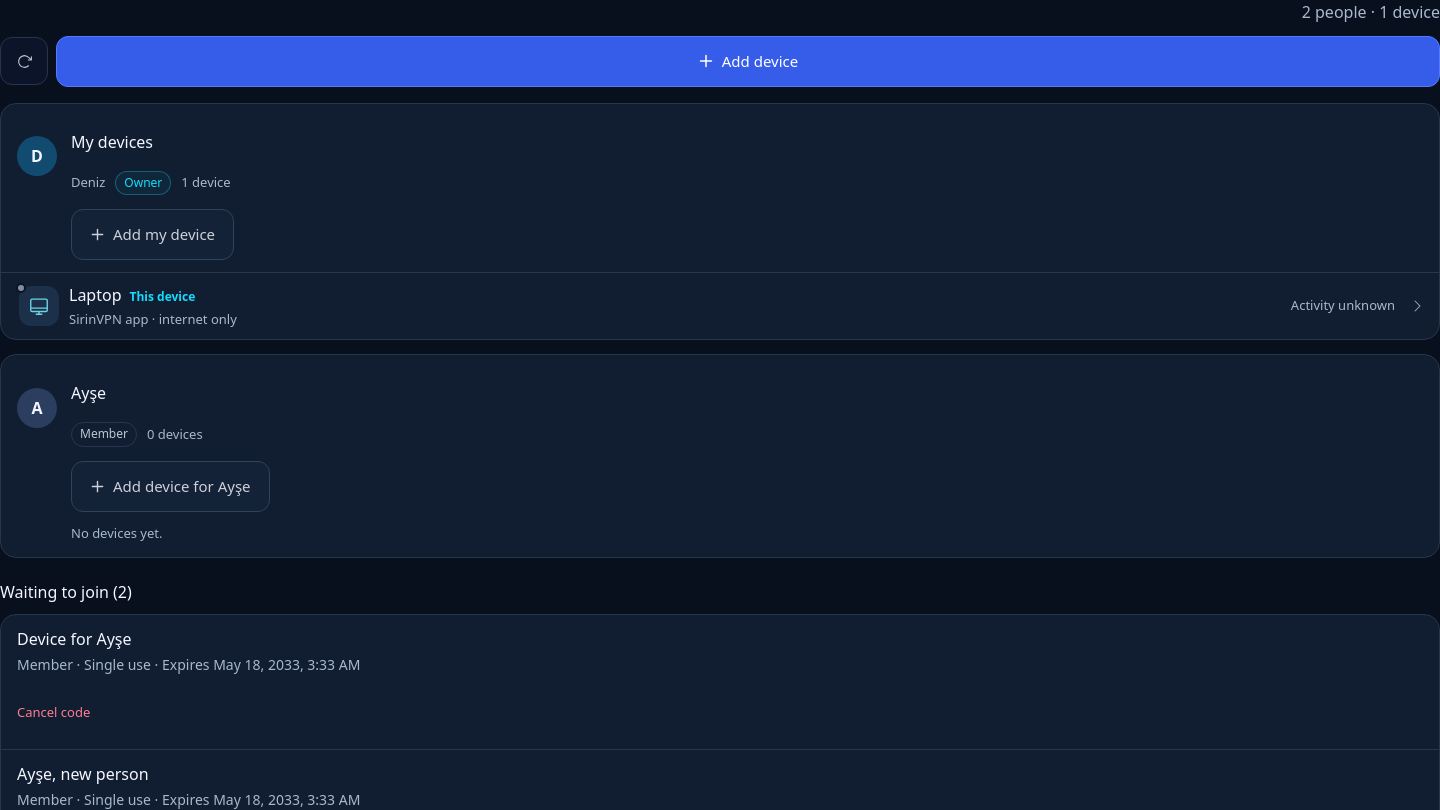
Test case: cancels the person's device join codes and retries a rename the server refused for them
Click the button with test id "open-person" showing "Ayşe". click: (89, 393)
box: [71,369,106,417]
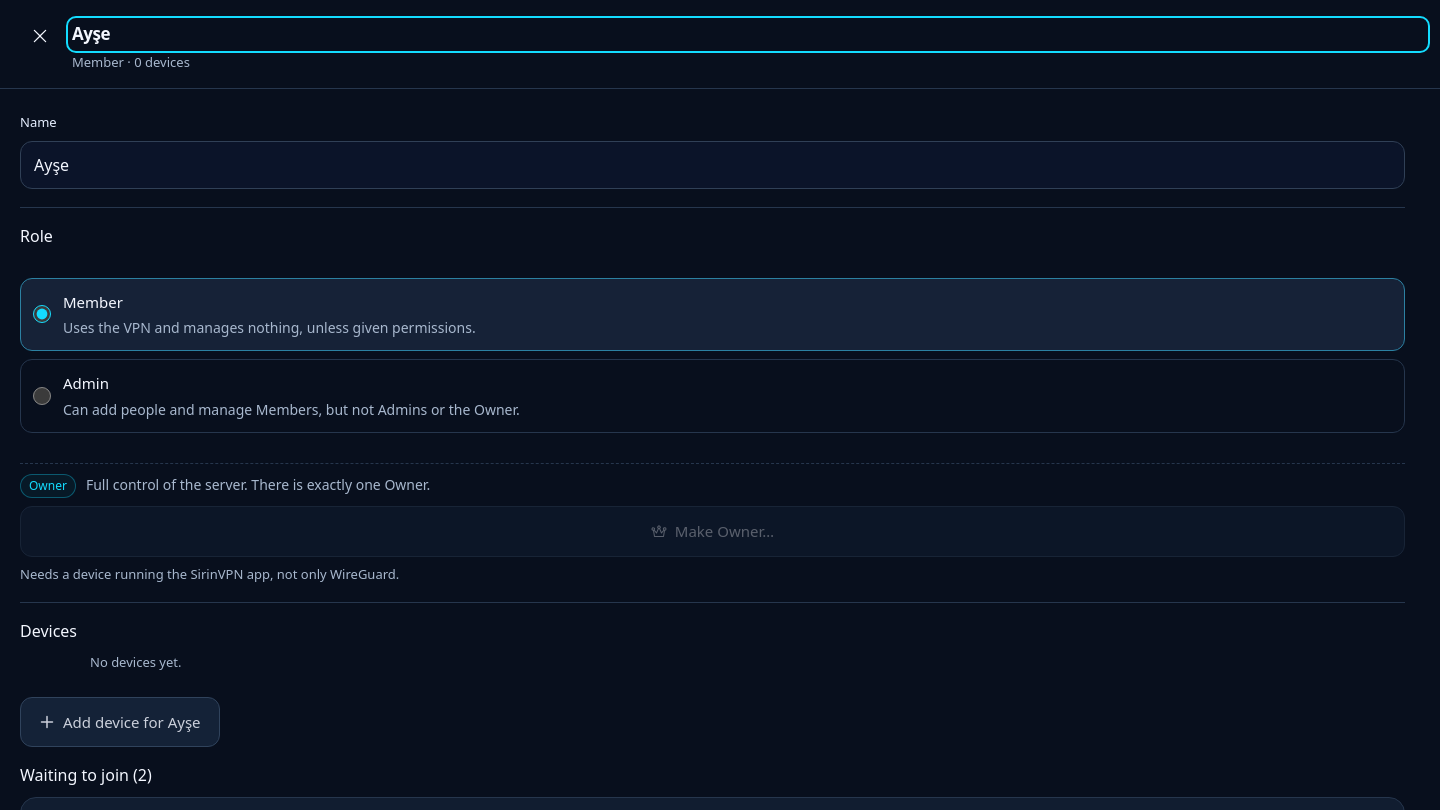
Replace the text in the field showing "Ayşe" with "Ayşe Y". click: (712, 165)
box: [20,141,1405,189]
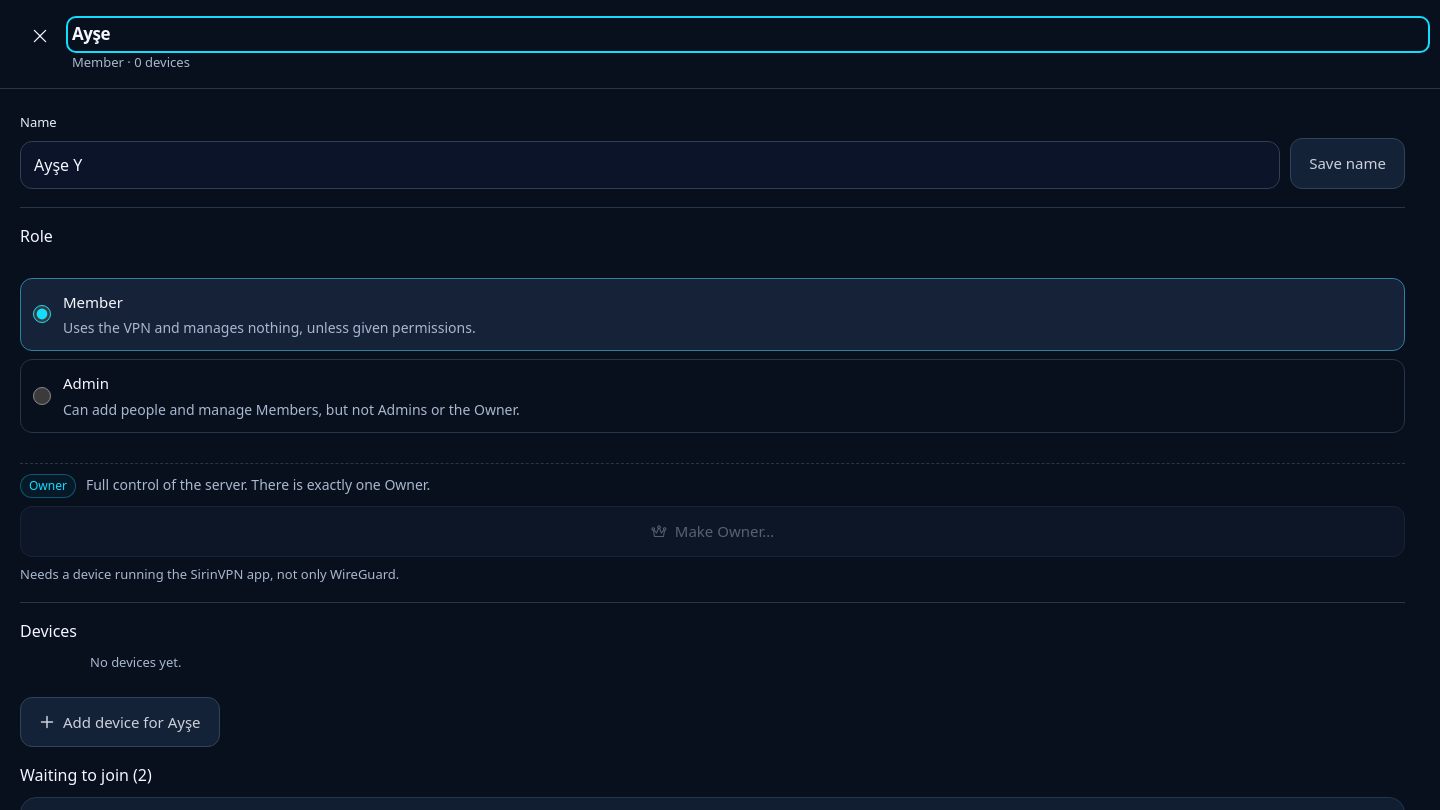
Click the button with test id "rename-person". click: (1348, 163)
box: [1290,138,1405,189]
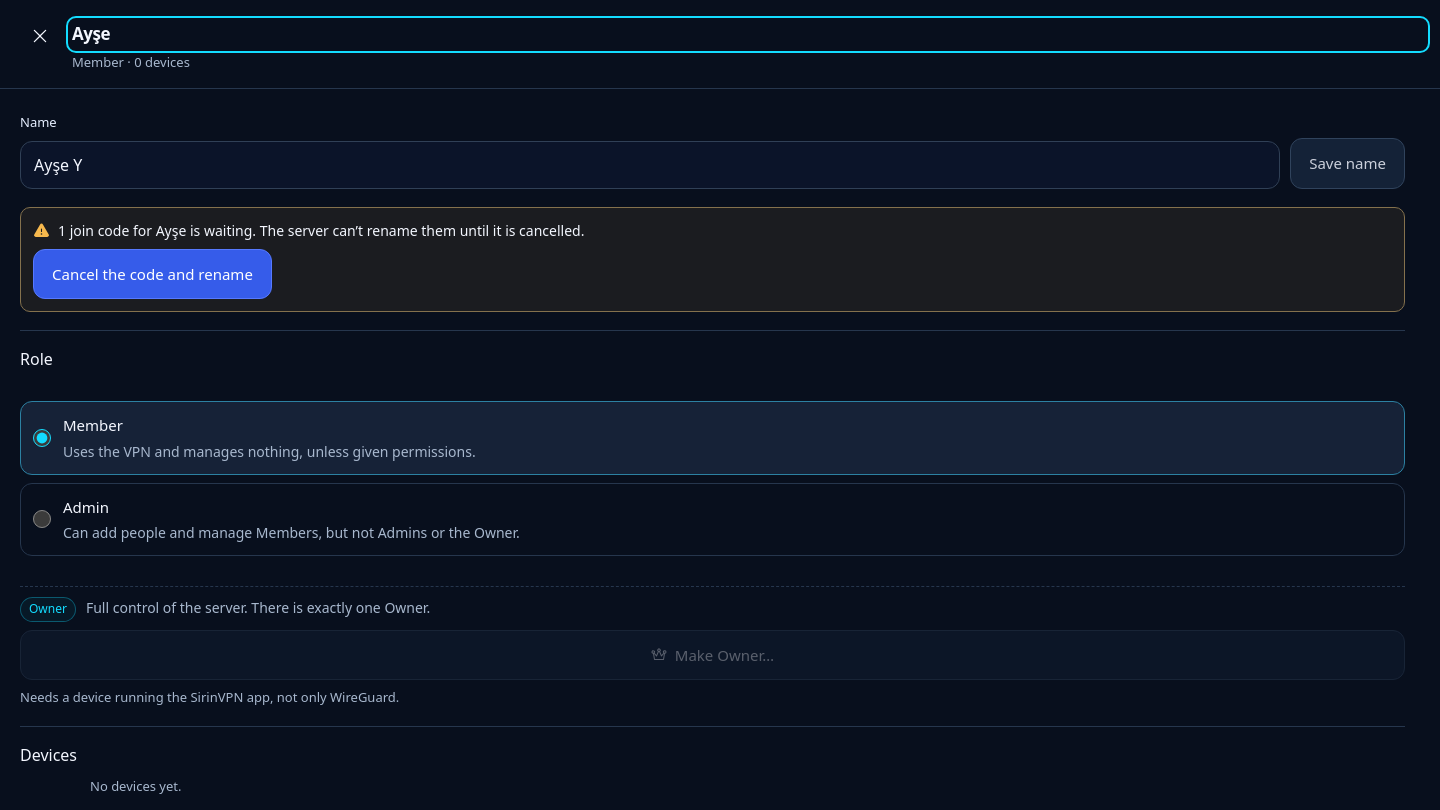
Click the button with test id "cancel-codes-rename". click: (152, 274)
box: [33,249,272,299]
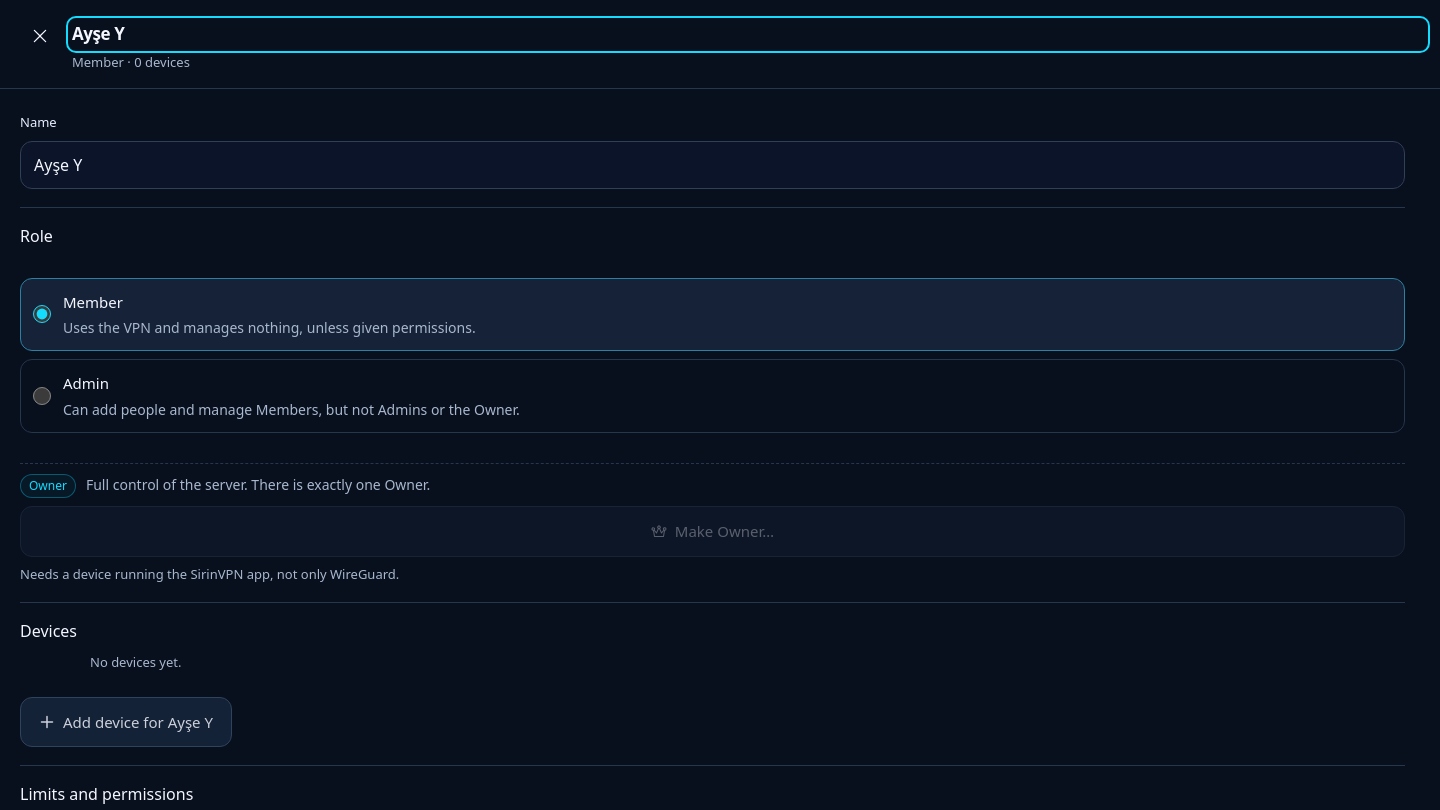
expect the button with test id "cancel-codes-rename" is gone: met
